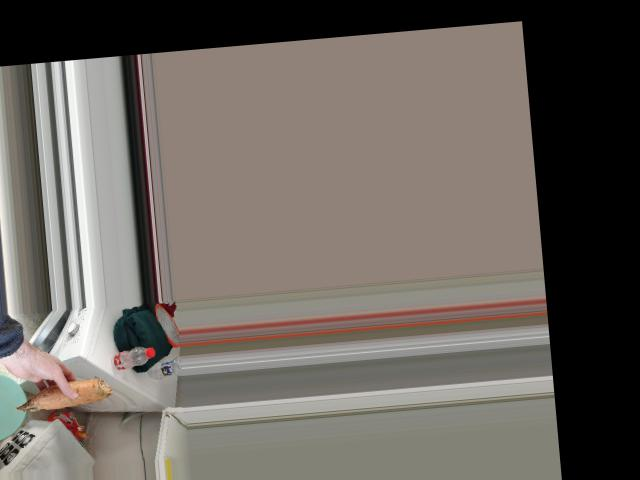sweet_potato: (13, 380, 117, 410)
